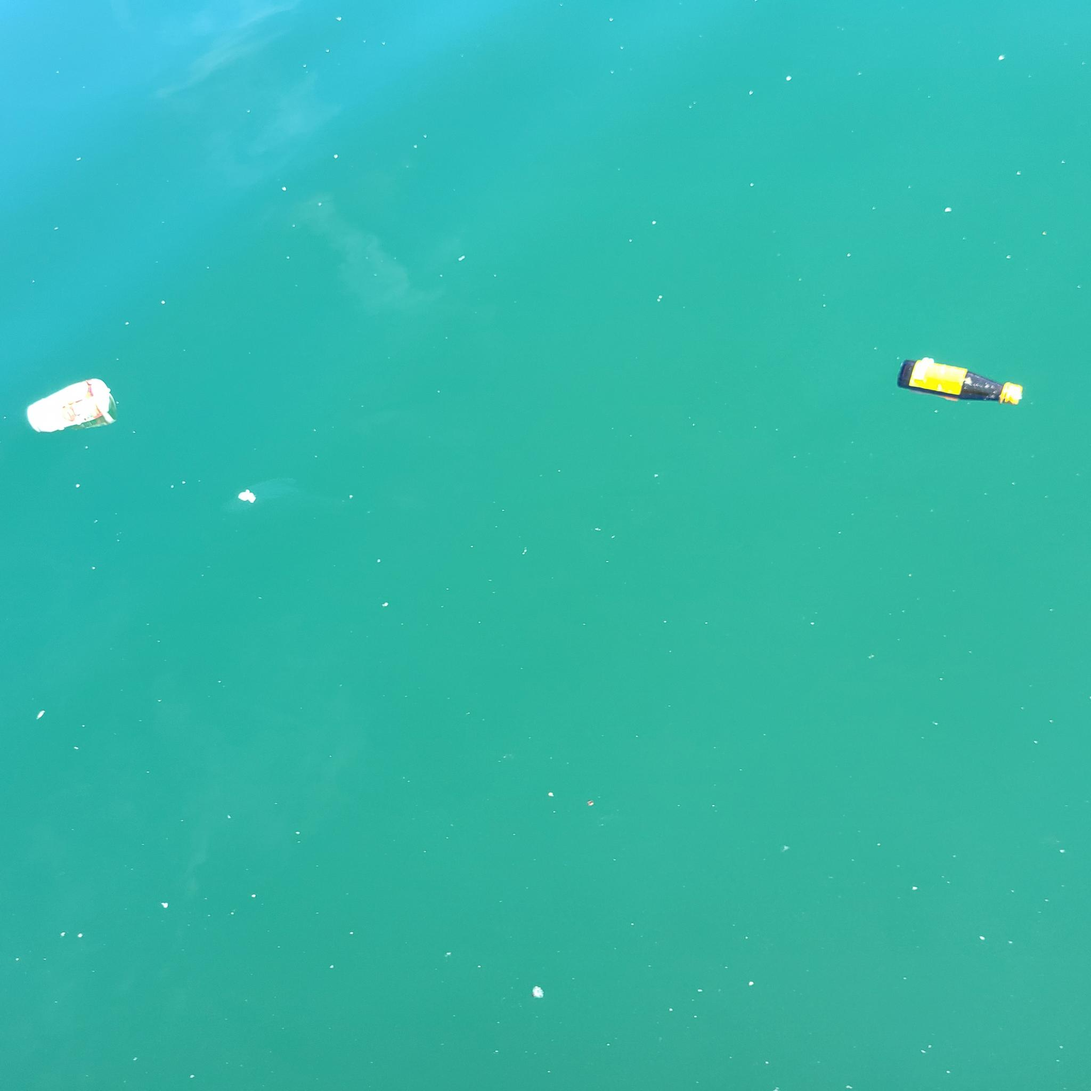sampah_terapung: (897, 359, 1023, 406), (27, 379, 111, 433)
